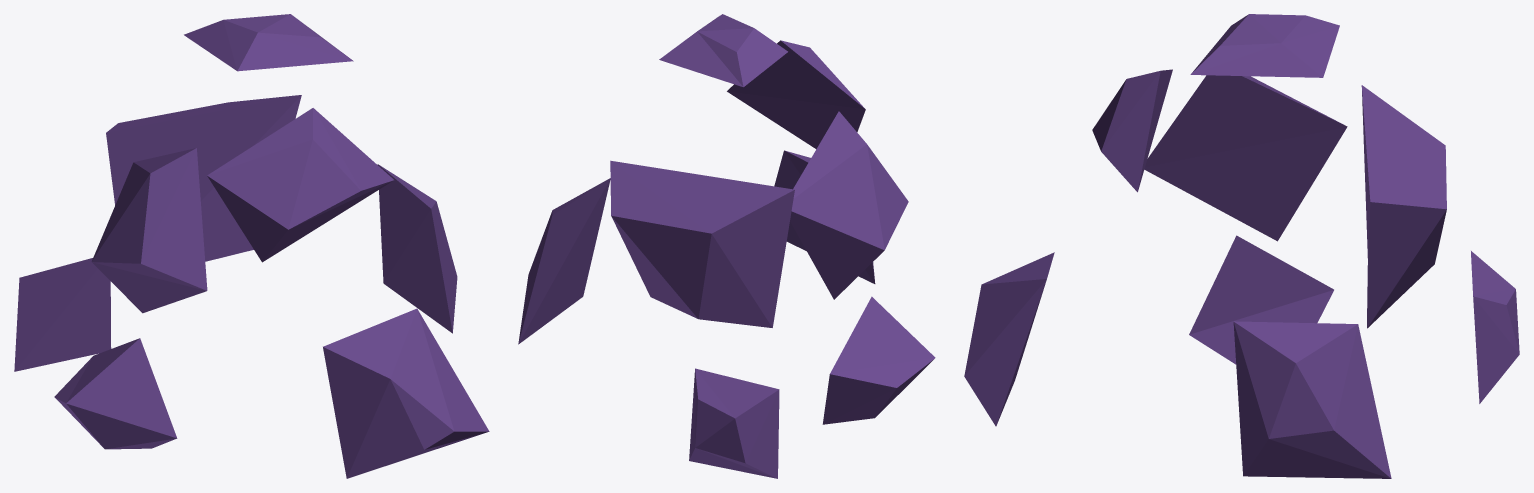
The model's file is CrystalOreB.fbx.
3 renders of one model, left to right at view 1: azimuth 30°, elevation 25°; view 2: azimuth 150°, elevation 25°; view 3: azimuth 270°, elevation 25°, orthographic. The views are drawn at different scales.
Parts seen in each view (by area): view 1: CrystalOreB; view 2: CrystalOreB; view 3: CrystalOreB.
Boxes of the visible parts, x1=… form: CrystalOreB: x1=14, y1=14, x2=489, y2=478; CrystalOreB: x1=518, y1=14, x2=935, y2=478; CrystalOreB: x1=964, y1=14, x2=1519, y2=478.
Size of the model in its own units: 41.7 by 39.81 by 47.02.
